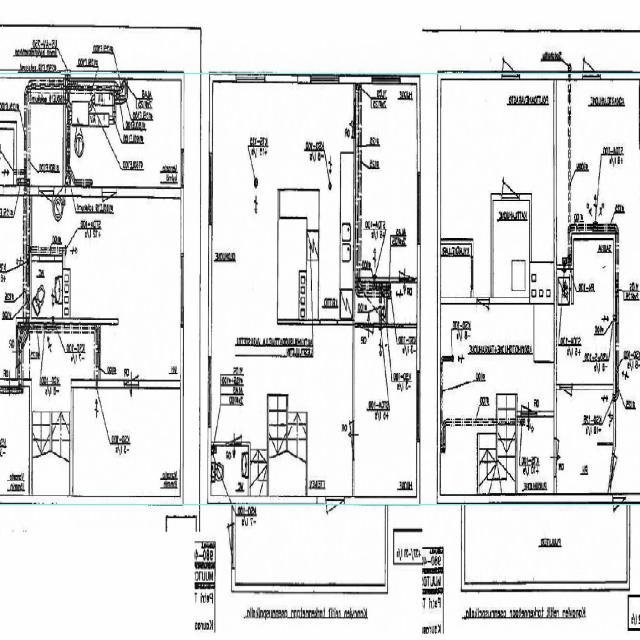door: (326, 494, 345, 550), (582, 27, 600, 81), (502, 28, 520, 81), (214, 523, 235, 568), (502, 152, 519, 200), (336, 419, 355, 460), (39, 187, 54, 234), (102, 187, 117, 234), (83, 329, 101, 367), (609, 454, 626, 494), (124, 343, 139, 388), (226, 404, 242, 446), (554, 440, 572, 476), (400, 241, 415, 283), (16, 330, 33, 366), (522, 376, 536, 417), (613, 496, 626, 536), (361, 324, 374, 361), (477, 297, 489, 336), (560, 384, 572, 418)
